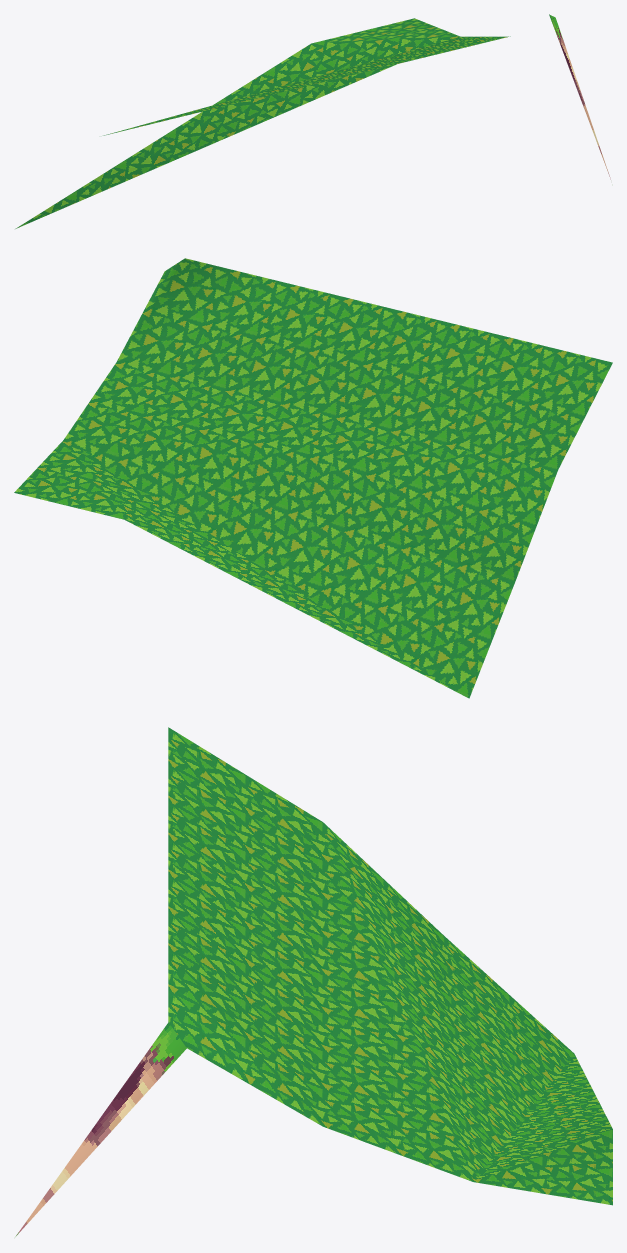
File: c_grd_e4_1.001.glb
3 views of the same model, one above another, from view 1: azimuth 30°, elevation 25°; view 2: azimuth 150°, elevation 25°; view 3: azimuth 270°, elevation 25° (orthographic). The views are drawn at different scales.
Parts seen in each view (by area): view 1: c_grd_e4_1.001; view 2: c_grd_e4_1.001; view 3: c_grd_e4_1.001.
Part boxes in pixels (x1,y1,x2,y2): c_grd_e4_1.001: (15, 14, 610, 228); c_grd_e4_1.001: (14, 258, 612, 698); c_grd_e4_1.001: (15, 727, 612, 1236).
Bounding box in the file's own units: 16 × 7.99 × 13.3.
Materials: 2 (2 with a texture image).
